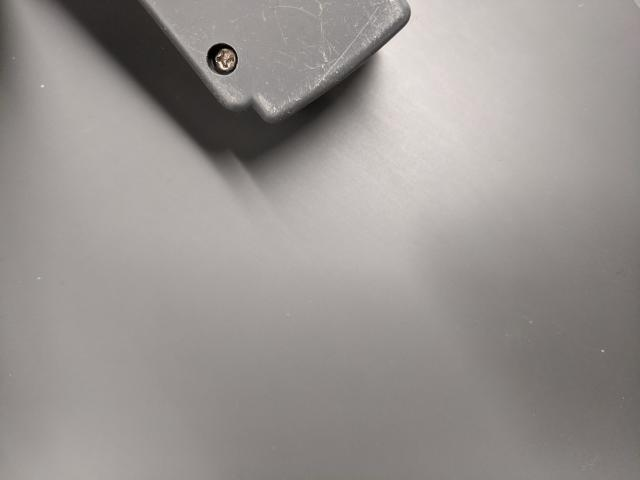CRS: (212, 43, 238, 76)
